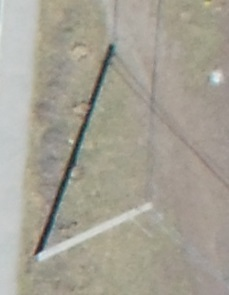opora: (32, 198, 154, 264)
